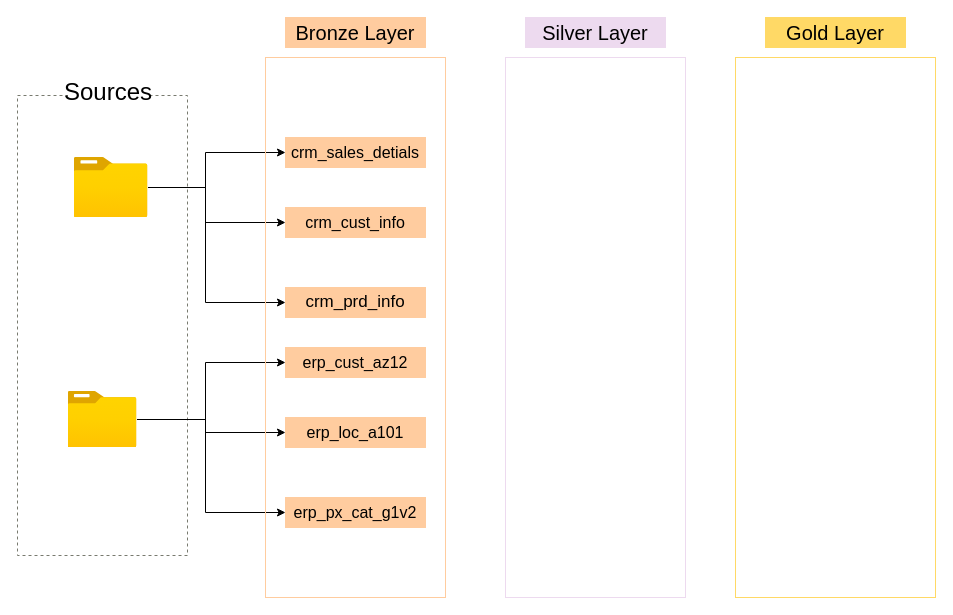
This 953x615 diagram has some shape labels left out. The shapes that lost their labels are listed below. From the top down, each one's centre as x and y in pixels, then its label:
At point (111, 187): "CRM".
At point (102, 419): "ERP".
